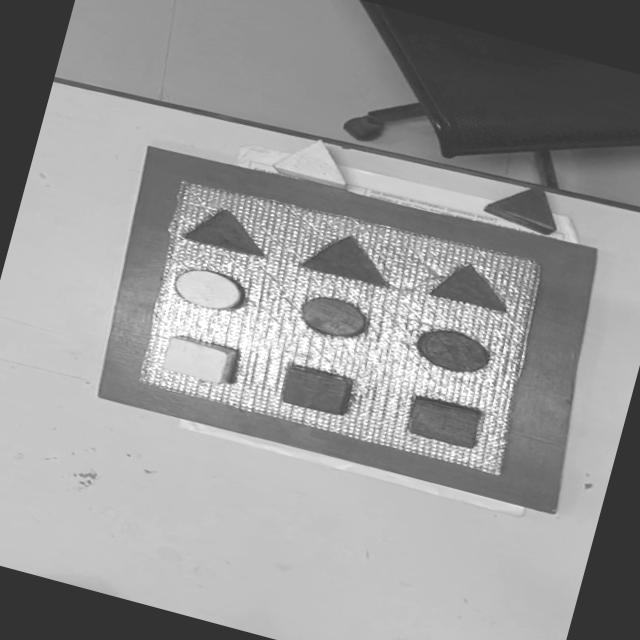bcircle: (412, 321, 495, 379)
bcube: (402, 392, 486, 451)
mttriangle: (298, 223, 401, 290), (180, 198, 275, 260), (426, 254, 518, 317)
rcircle: (296, 290, 370, 343)
rcube: (277, 362, 354, 418)
rtriangle: (481, 173, 568, 238)
wb: (121, 165, 554, 479)
ycircle: (168, 260, 249, 316)
ycube: (157, 331, 239, 388)
ytriangle: (270, 128, 356, 191)
